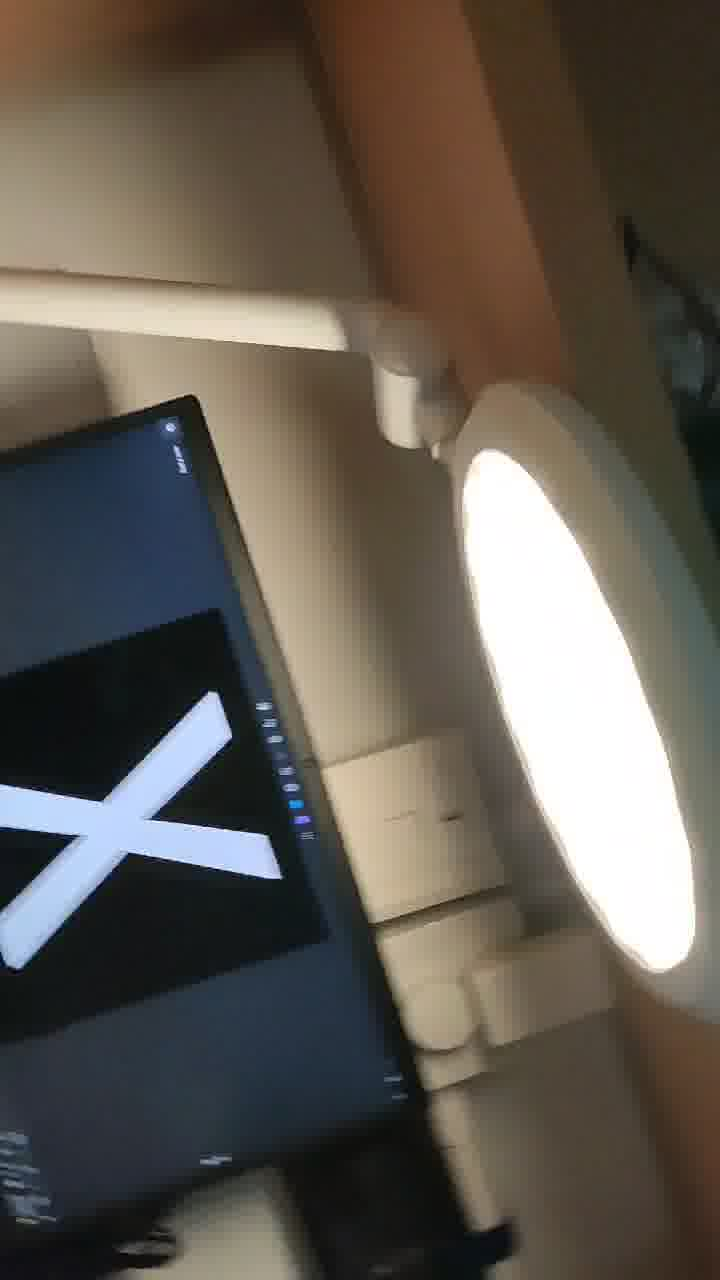X: (1, 607, 342, 960)
